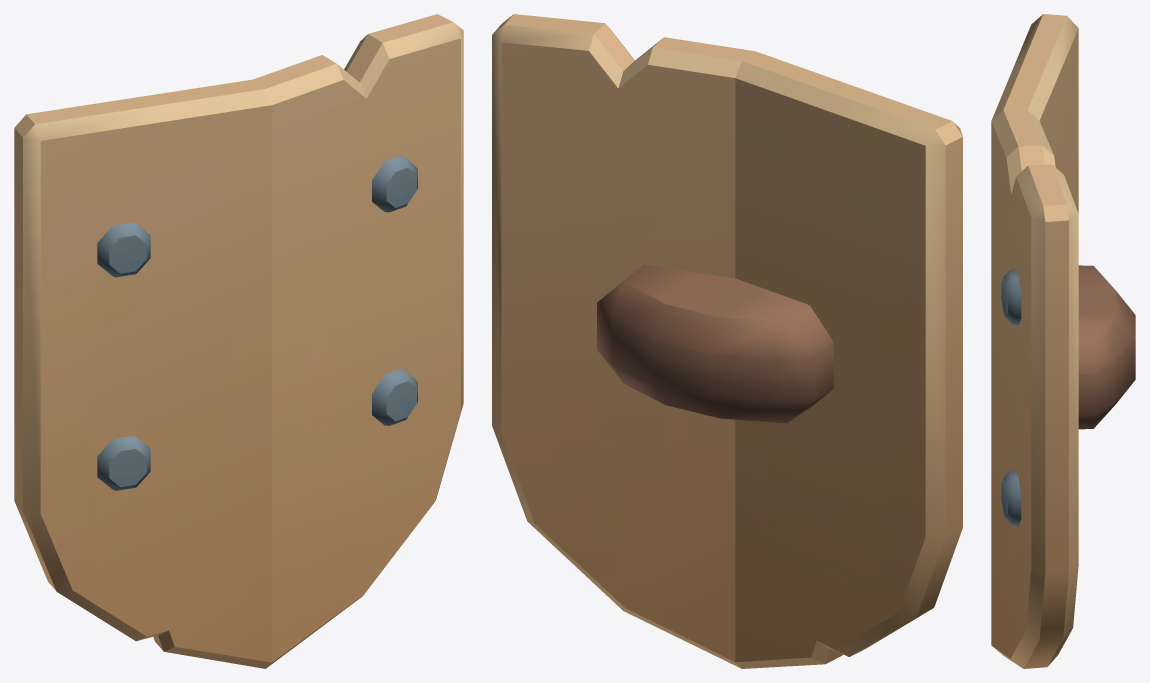
File: shield_a.ec7e5412.glb
3 renders of one model, left to right at view 1: azimuth 30°, elevation 25°; view 2: azimuth 150°, elevation 25°; view 3: azimuth 270°, elevation 25°, orthographic. The views are drawn at different scales.
Parts seen in each view (by area): view 1: shield_A; view 2: shield_A; view 3: shield_A.
Part boxes in pixels (bbox=[...]): shield_A: bbox=[14, 14, 463, 668]; shield_A: bbox=[492, 14, 962, 668]; shield_A: bbox=[991, 14, 1135, 668].
Bounding box in the file's own units: 0.7726 × 0.9799 × 0.233.
Materials: 1 (1 with a texture image).
